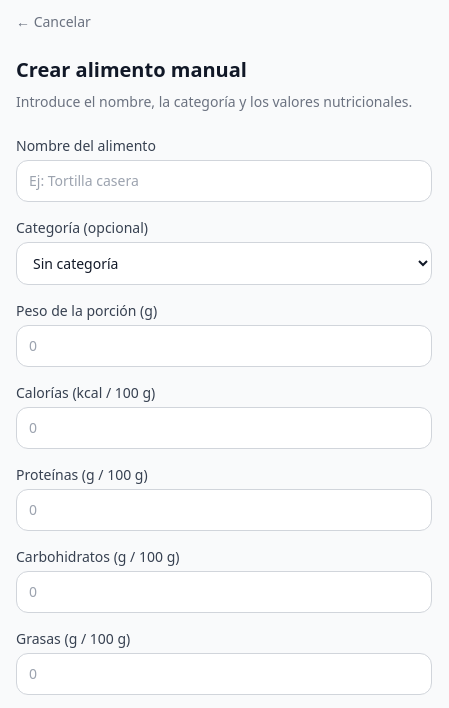
Scenario: ManualFormRoute › required dataBasis when category has a cooking factor › shows a required dataBasis control once a convertible category is selected
Select "🥩 Carnes" in the dropdown labelled "Categoría (opcional)" at x=224, y=264, box [16, 242, 432, 285]
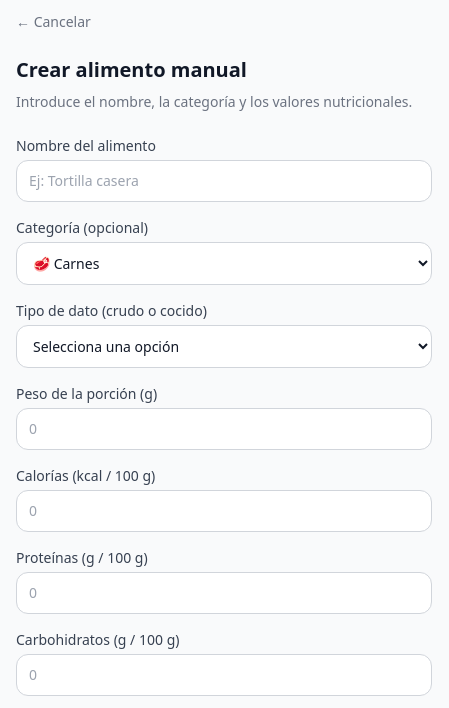
Now the dropdown labelled "Tipo de dato (crudo o cocido)" is shown, box [16, 325, 432, 368]
